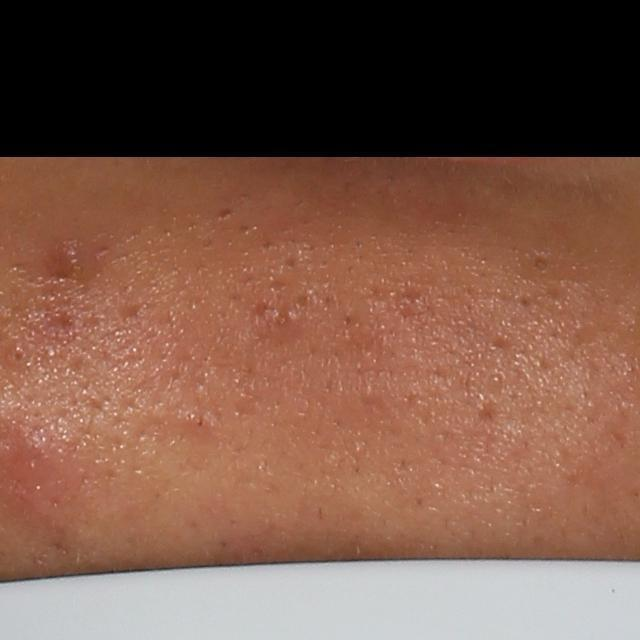atrophic_scar: (118, 298, 147, 331), (398, 279, 430, 305), (474, 398, 503, 426), (66, 353, 94, 381), (487, 331, 513, 357), (84, 396, 110, 420), (267, 275, 290, 295), (294, 288, 313, 312), (516, 290, 536, 309), (216, 207, 234, 222)
comedo: (532, 249, 553, 272), (6, 346, 27, 368)
papule: (166, 404, 224, 443), (52, 237, 88, 278)
